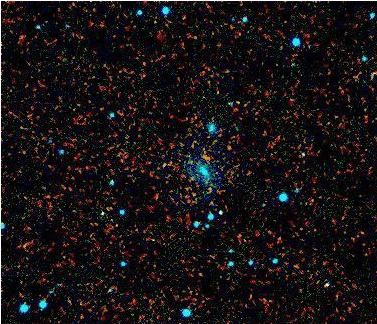star: (215, 130, 245, 160)
